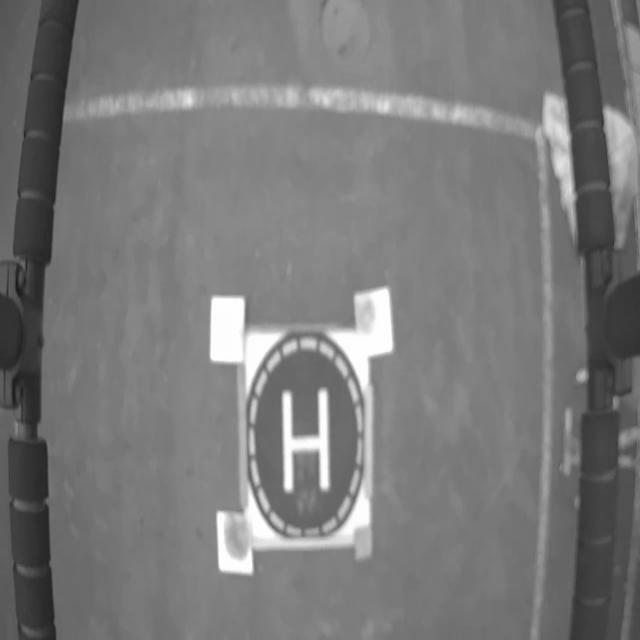Helipad: (281, 390, 330, 493)
